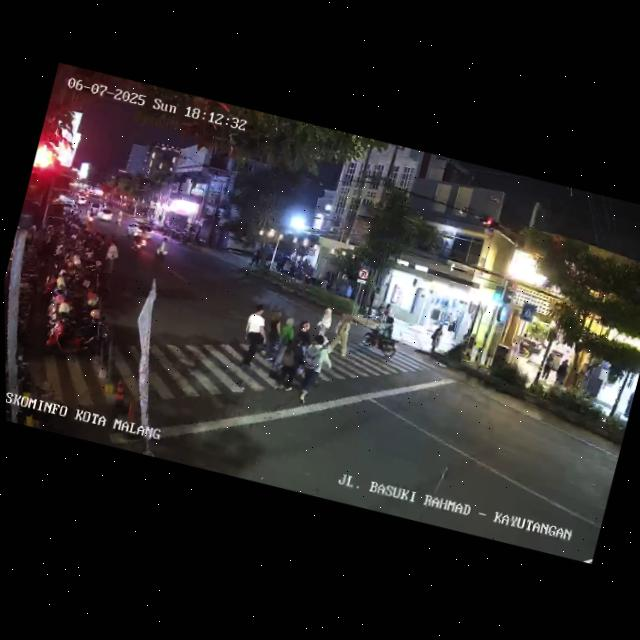motorcycle: (358, 313, 403, 359), (151, 233, 172, 264), (127, 226, 149, 255)
person: (293, 331, 341, 409), (234, 302, 275, 372), (269, 315, 299, 374), (257, 307, 288, 363), (277, 333, 306, 392), (331, 311, 358, 360), (311, 304, 338, 349), (291, 318, 317, 350), (540, 349, 559, 387), (425, 321, 444, 355), (551, 356, 570, 389), (619, 388, 635, 420)
